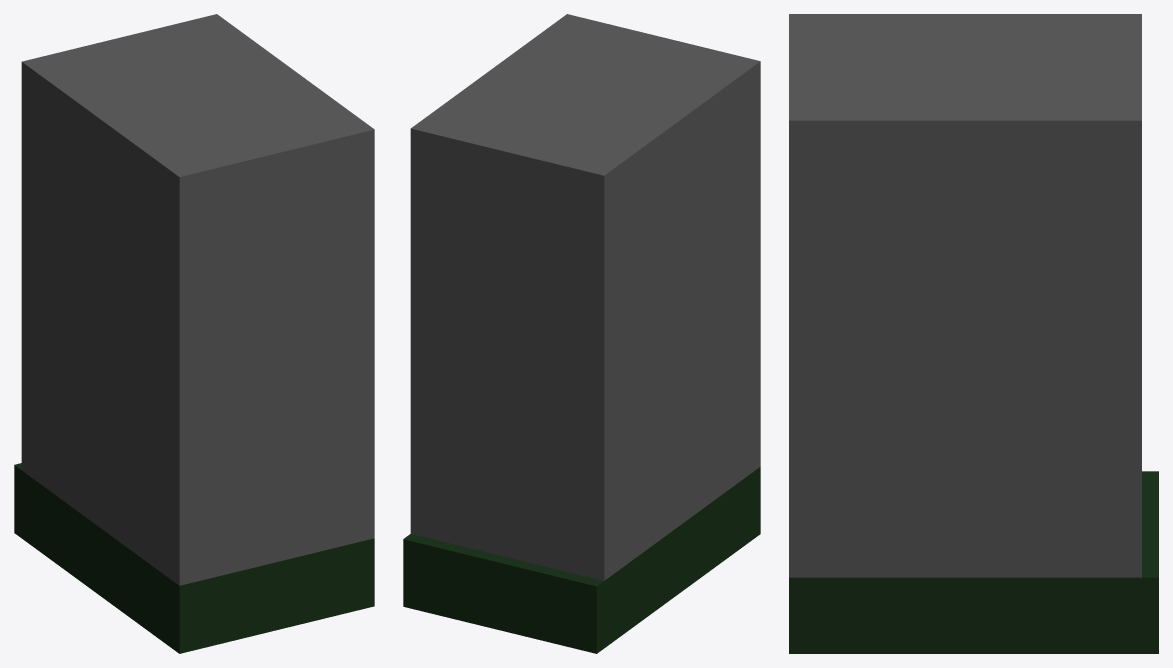
Rendered from alex-2.obj.
3 renders of one model, left to right at view 1: azimuth 30°, elevation 25°; view 2: azimuth 150°, elevation 25°; view 3: azimuth 270°, elevation 25°, orthographic. The views are drawn at different scales.
Bounding box in the file's own units: 1.5 × 3.5 × 2.2.
Materials: 1 (1 with a texture image).
